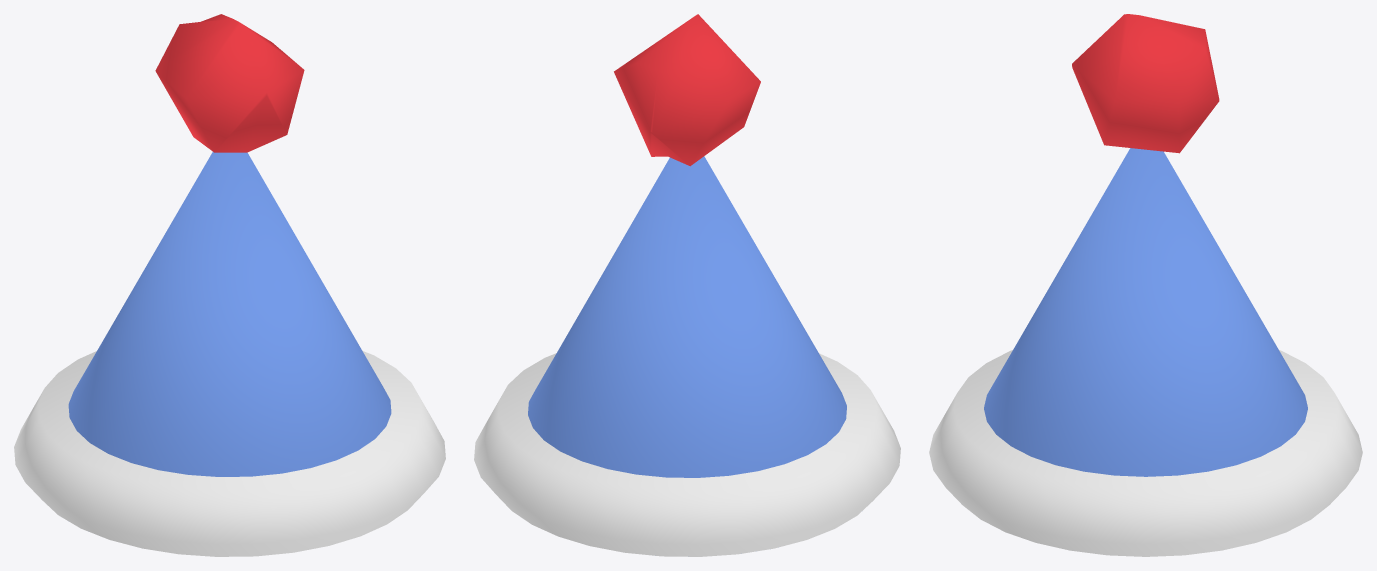
The model's file is accessory-partyhat.glb.
3 renders of one model, left to right at view 1: azimuth 30°, elevation 25°; view 2: azimuth 150°, elevation 25°; view 3: azimuth 270°, elevation 25°, orthographic.
Visible parts, largest first — view 1: accessory__Cube__0; view 2: accessory__Cube__0; view 3: accessory__Cube__0.
Boxes of the visible parts, bbox=[...] form: accessory__Cube__0: bbox=[14, 14, 445, 556]; accessory__Cube__0: bbox=[474, 14, 900, 556]; accessory__Cube__0: bbox=[929, 14, 1362, 556].
Bounding box in the file's own units: 0.4517 × 0.5274 × 0.4517.
